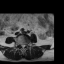CCS_normal: (22, 43, 24, 49)
LFS_severe_stenosis: (26, 42, 27, 47)
LLS_stenosis: (24, 43, 26, 49)
RFS_severe_stenosis: (19, 42, 21, 47)
RLS_stenosis: (21, 43, 22, 48)
